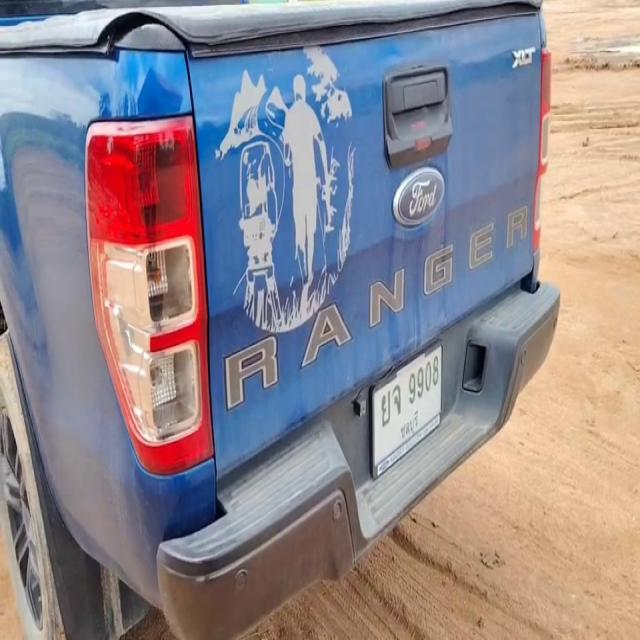Digit: (408, 358, 439, 407)
Licenseplate: (368, 333, 445, 486)
Provincename: (401, 411, 420, 439)
Thaichar: (381, 382, 402, 426)
